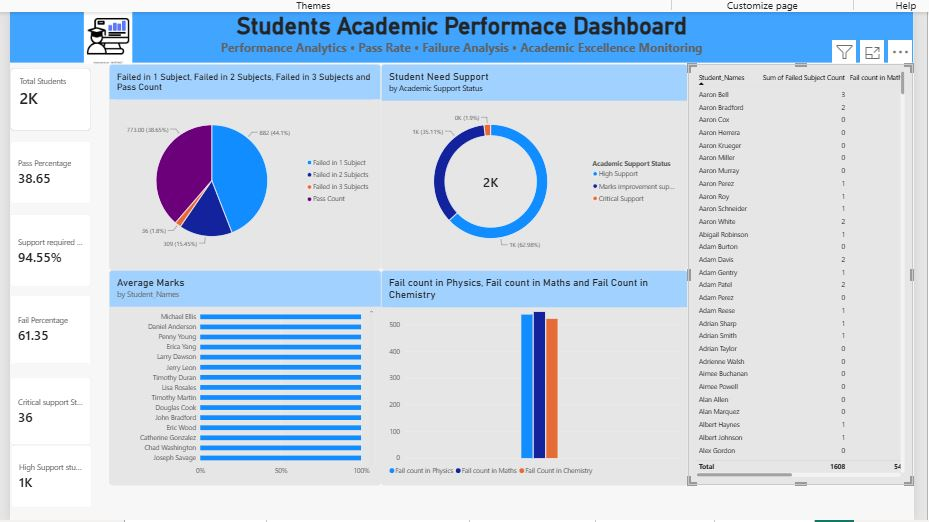

What the dashboard file says about the page in this screenshot:
{"tool":"powerbi","page":{"name":"DashBoard","canvas":[1920,1080],"ordinal":4},"visuals":[{"type":"cardVisual","fields":{"Data":["Fact_StudentMarks.Total Students"]},"box":[0,0,189,156.2],"z":1000},{"type":"cardVisual","fields":{"Data":["Fact_StudentMarks.Support required Percentage"]},"box":[748.3,211.7,231.8,183.9],"z":2000},{"type":"cardVisual","fields":{"Data":["Fact_StudentMarks.Pass Percentage"]},"box":[189,0,189,156.2],"z":3000},{"type":"donutChart","fields":{"Category":["Fact_StudentMarks.Academic Support Status"],"Y":["Fact_StudentMarks.Student Need Support"]},"box":[1217,204.1,609.8,383],"z":4000},{"type":"hundredPercentStackedBarChart","fields":{"Category":["Dim_Student.Student_Names"],"Y":["Fact_StudentMarks.Average Marks"]},"box":[0,655.1,597.2,383],"z":5000},{"type":"cardVisual","fields":{"Data":["Fact_StudentMarks.Critical support Students"]},"box":[748.3,425.8,231.8,194],"z":7000},{"type":"treemap","fields":{"Values":["Fact_StudentMarks.Fail count in Physics","Fact_StudentMarks.Fail count in Maths","Fact_StudentMarks.Fail Count in Chemistry"]},"box":[1217,619.8,609.8,448.5],"z":8000},{"type":"shape","box":[413.2,0,1166.6,173.9],"z":8001},{"type":"cardVisual","fields":{"Data":["Fact_StudentMarks.High Support students"]},"box":[748.3,637.5,231.8,173.9],"z":8002},{"type":"cardVisual","fields":{"Data":["Fact_StudentMarks.Marks improvement support students count"]},"box":[748.3,846.6,231.8,173.9],"z":8003},{"type":"cardVisual","fields":{"Data":["Fact_StudentMarks.Support Required Students"]},"box":[1615.1,0,186.5,173.9],"z":8004},{"type":"tableEx","fields":{"Values":["Dim_Student.Student_Names","Sum(Fact_StudentMarks.Failed Subject Count)","Fact_StudentMarks.Fail count in Maths","Fact_StudentMarks.Fail Count in Chemistry","Fact_StudentMarks.Fail count in Physics","Fact_StudentMarks.Academic Support Status"]},"box":[0,211.7,597.2,425.8],"z":8005}]}

Visuals, with their boxes on the page's 1920x1080 design canvas (x1, y1, x2, y2). These are canvas units, not pixel positions in the 929x522 screenshot, which may show the page scaled, cropped or inside an application window:
cardVisual - Fact_StudentMarks.Total Students: select_region(0, 0, 189, 156)
cardVisual - Fact_StudentMarks.Support required Percentage: select_region(748, 212, 980, 396)
cardVisual - Fact_StudentMarks.Pass Percentage: select_region(189, 0, 378, 156)
donutChart - Fact_StudentMarks.Academic Support Status x Fact_StudentMarks.Student Need Support: select_region(1217, 204, 1827, 587)
hundredPercentStackedBarChart - Dim_Student.Student_Names x Fact_StudentMarks.Average Marks: select_region(0, 655, 597, 1038)
cardVisual - Fact_StudentMarks.Critical support Students: select_region(748, 426, 980, 620)
treemap - Fact_StudentMarks.Fail count in Physics x Fact_StudentMarks.Fail count in Maths: select_region(1217, 620, 1827, 1068)
shape: select_region(413, 0, 1580, 174)
cardVisual - Fact_StudentMarks.High Support students: select_region(748, 638, 980, 811)
cardVisual - Fact_StudentMarks.Marks improvement support students count: select_region(748, 847, 980, 1020)
cardVisual - Fact_StudentMarks.Support Required Students: select_region(1615, 0, 1802, 174)
tableEx - Dim_Student.Student_Names x Sum(Fact_StudentMarks.Failed Subject Count): select_region(0, 212, 597, 638)
